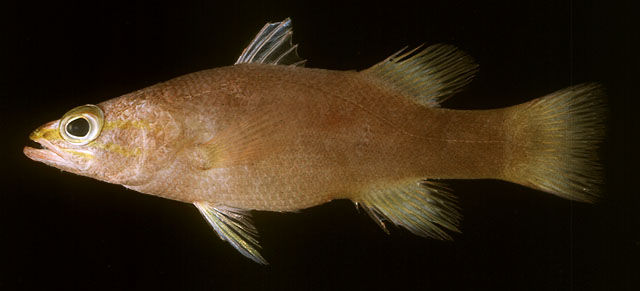fish: (23, 18, 601, 266)
